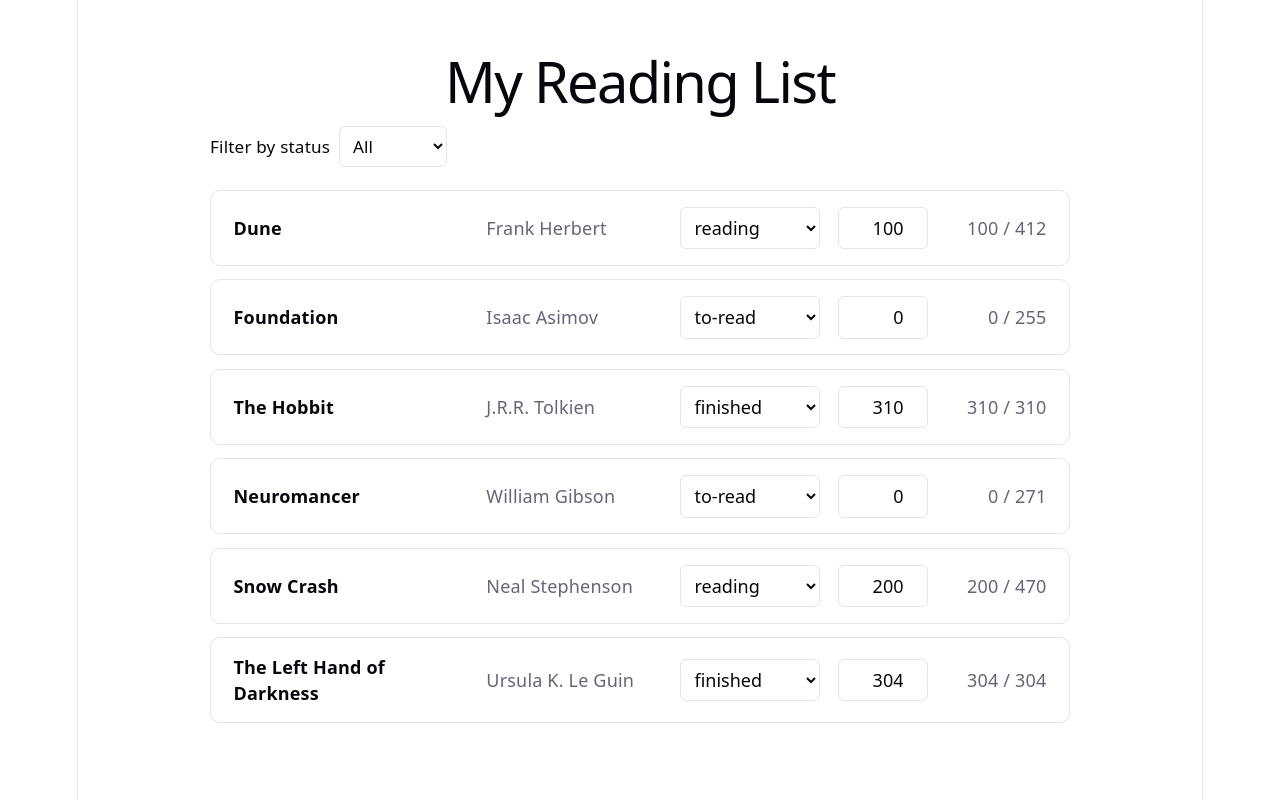
Test case: selecting "Reading" shows only books with that status
This screenshot has width=1280, height=800.
Select "Reading" in the dropdown labelled "Filter by status". click: (393, 147)
box: [339,126,447,168]
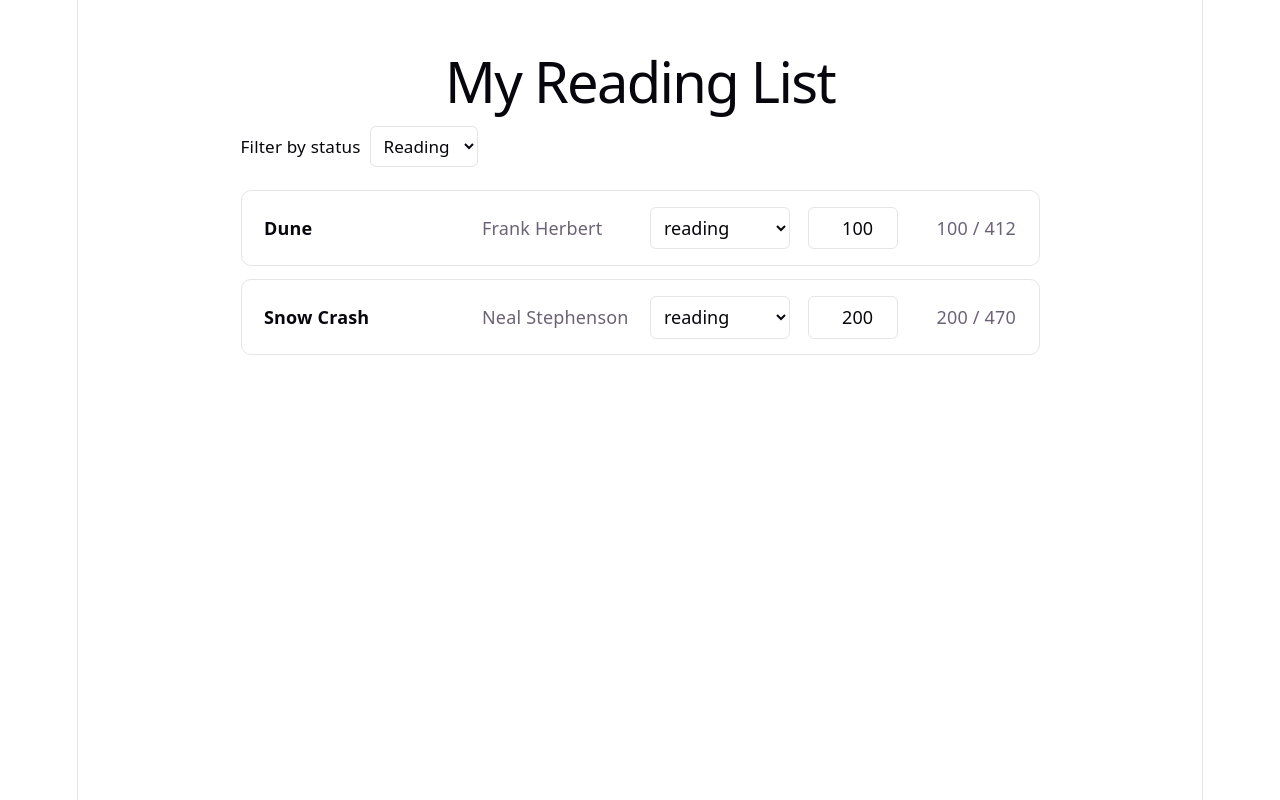
Result: the text "Foundation" is gone
Result: the text "The Hobbit" is gone
Result: the text "Neuromancer" is gone
